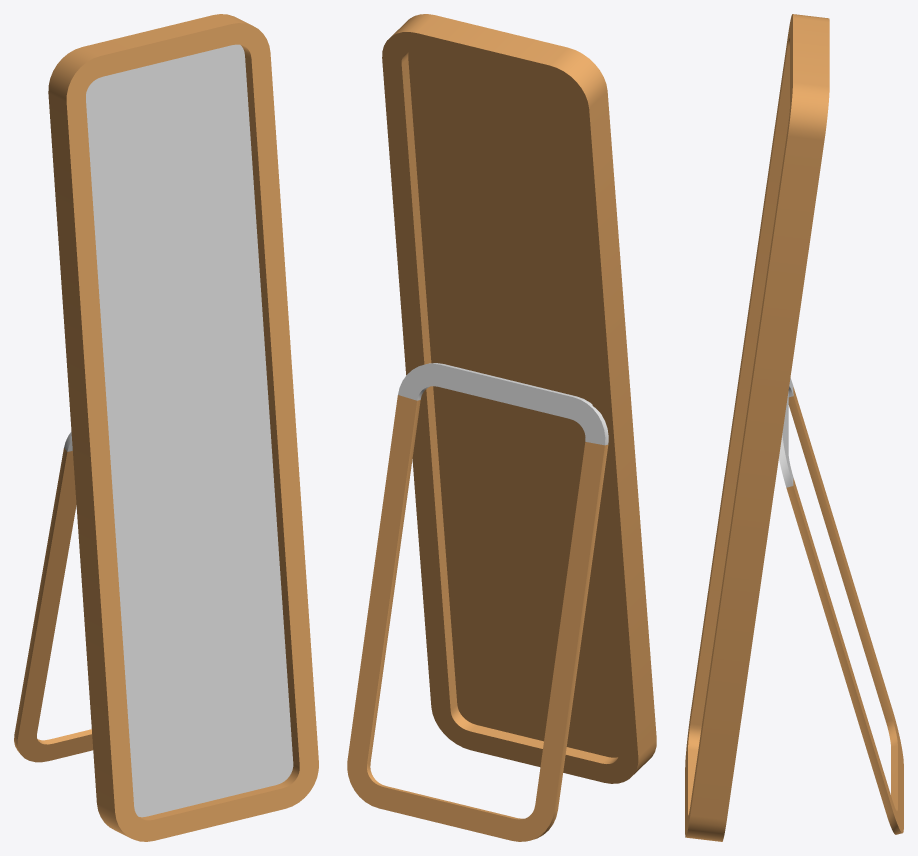
Rendered from FullBodyMirror.fbx.
3 renders of one model, left to right at view 1: azimuth 30°, elevation 25°; view 2: azimuth 150°, elevation 25°; view 3: azimuth 270°, elevation 25°, orthographic.
Parts seen in each view (by area): view 1: 立方体; view 2: 立方体; view 3: 立方体.
Part boxes in pixels (bbox=[...]): 立方体: bbox=[14, 14, 318, 841]; 立方体: bbox=[347, 14, 656, 841]; 立方体: bbox=[685, 14, 903, 841].
Size of the model in its own units: 57.38 by 202 by 52.93.
